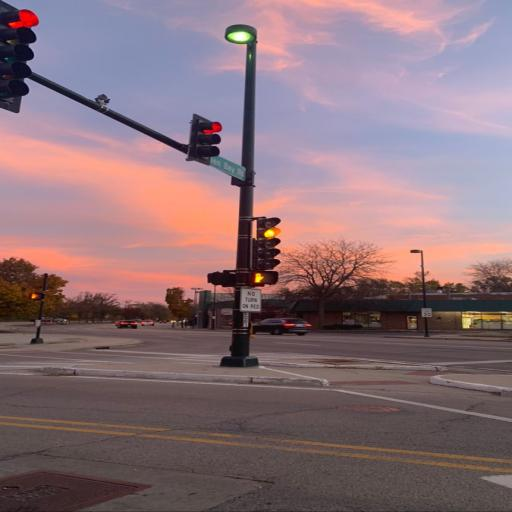elevator: (220, 23, 266, 367)
glass_wall: (0, 368, 512, 508)
pole: (183, 109, 225, 170), (252, 218, 282, 284)
